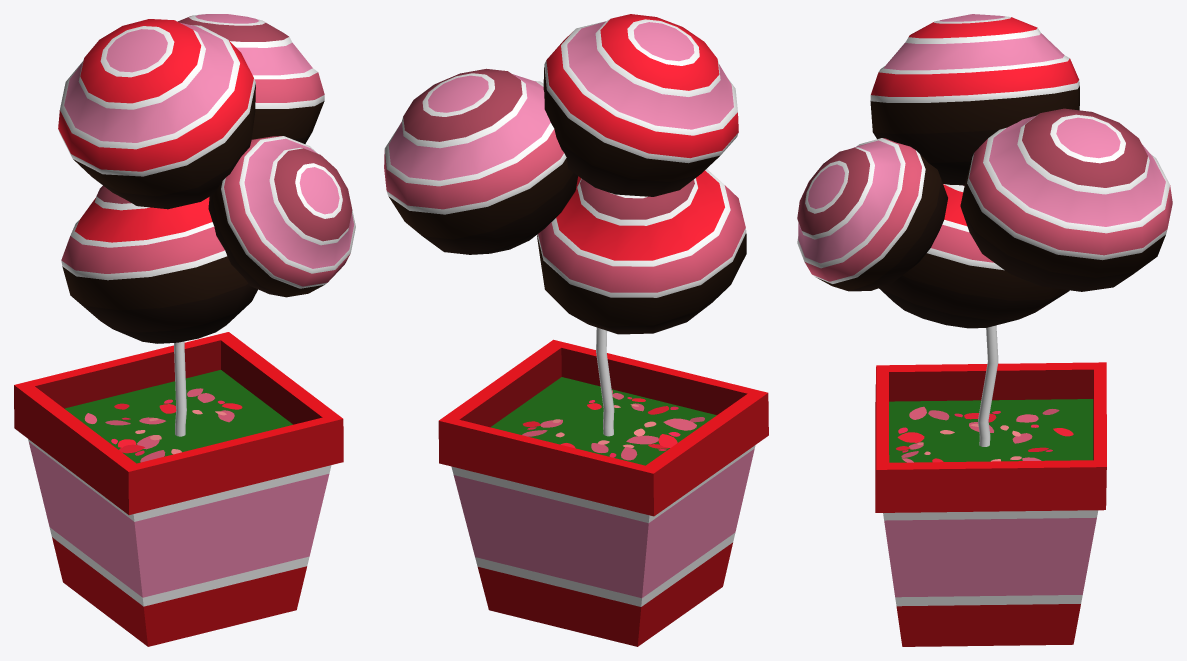
File: Hyabun2-1.fbx
The picture shows the model from 3 angles, left to right: view 1: azimuth 30°, elevation 25°; view 2: azimuth 150°, elevation 25°; view 3: azimuth 270°, elevation 25°; orthographic projection.
Visible parts, largest first — view 1: Hyabun2-1; view 2: Hyabun2-1; view 3: Hyabun2-1.
Part boxes in pixels (x1,y1,x2,y2): Hyabun2-1: (14,14,355,646); Hyabun2-1: (384,14,768,646); Hyabun2-1: (797,14,1172,646).
Size of the model in its own units: 0.378 by 0.729 by 0.4288.
